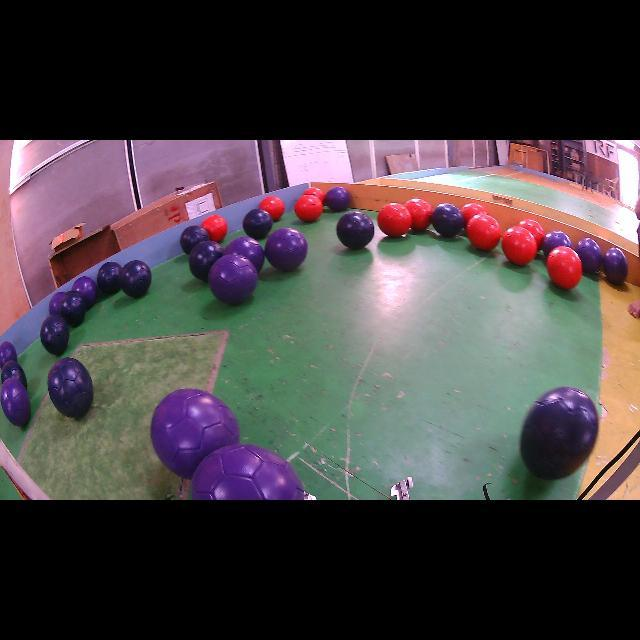B: (520, 386, 599, 480), (48, 358, 94, 418), (336, 211, 374, 250), (189, 240, 224, 281), (40, 315, 70, 355), (120, 260, 151, 298), (431, 204, 465, 238), (60, 291, 86, 326), (242, 209, 272, 239), (180, 225, 210, 254), (98, 261, 122, 294), (1, 360, 28, 389)
P: (150, 389, 240, 479), (192, 444, 312, 500), (209, 254, 258, 305), (265, 228, 308, 271), (0, 378, 31, 426), (224, 238, 265, 272), (602, 248, 628, 285), (575, 238, 602, 273), (71, 276, 98, 309), (541, 230, 572, 257), (325, 186, 351, 211), (0, 341, 18, 367), (49, 291, 65, 315)
R: (546, 246, 582, 289), (501, 226, 538, 265), (466, 214, 501, 250), (378, 202, 412, 237), (405, 199, 432, 230), (518, 219, 545, 249), (201, 215, 228, 242), (295, 195, 322, 221), (461, 202, 488, 227), (259, 196, 285, 221), (302, 188, 325, 204)
